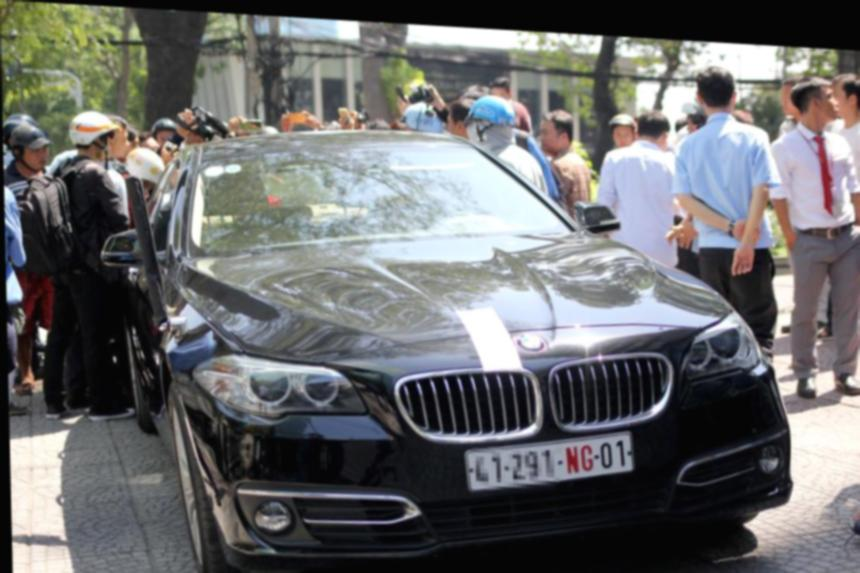License_Plate: (451, 418, 640, 500)
